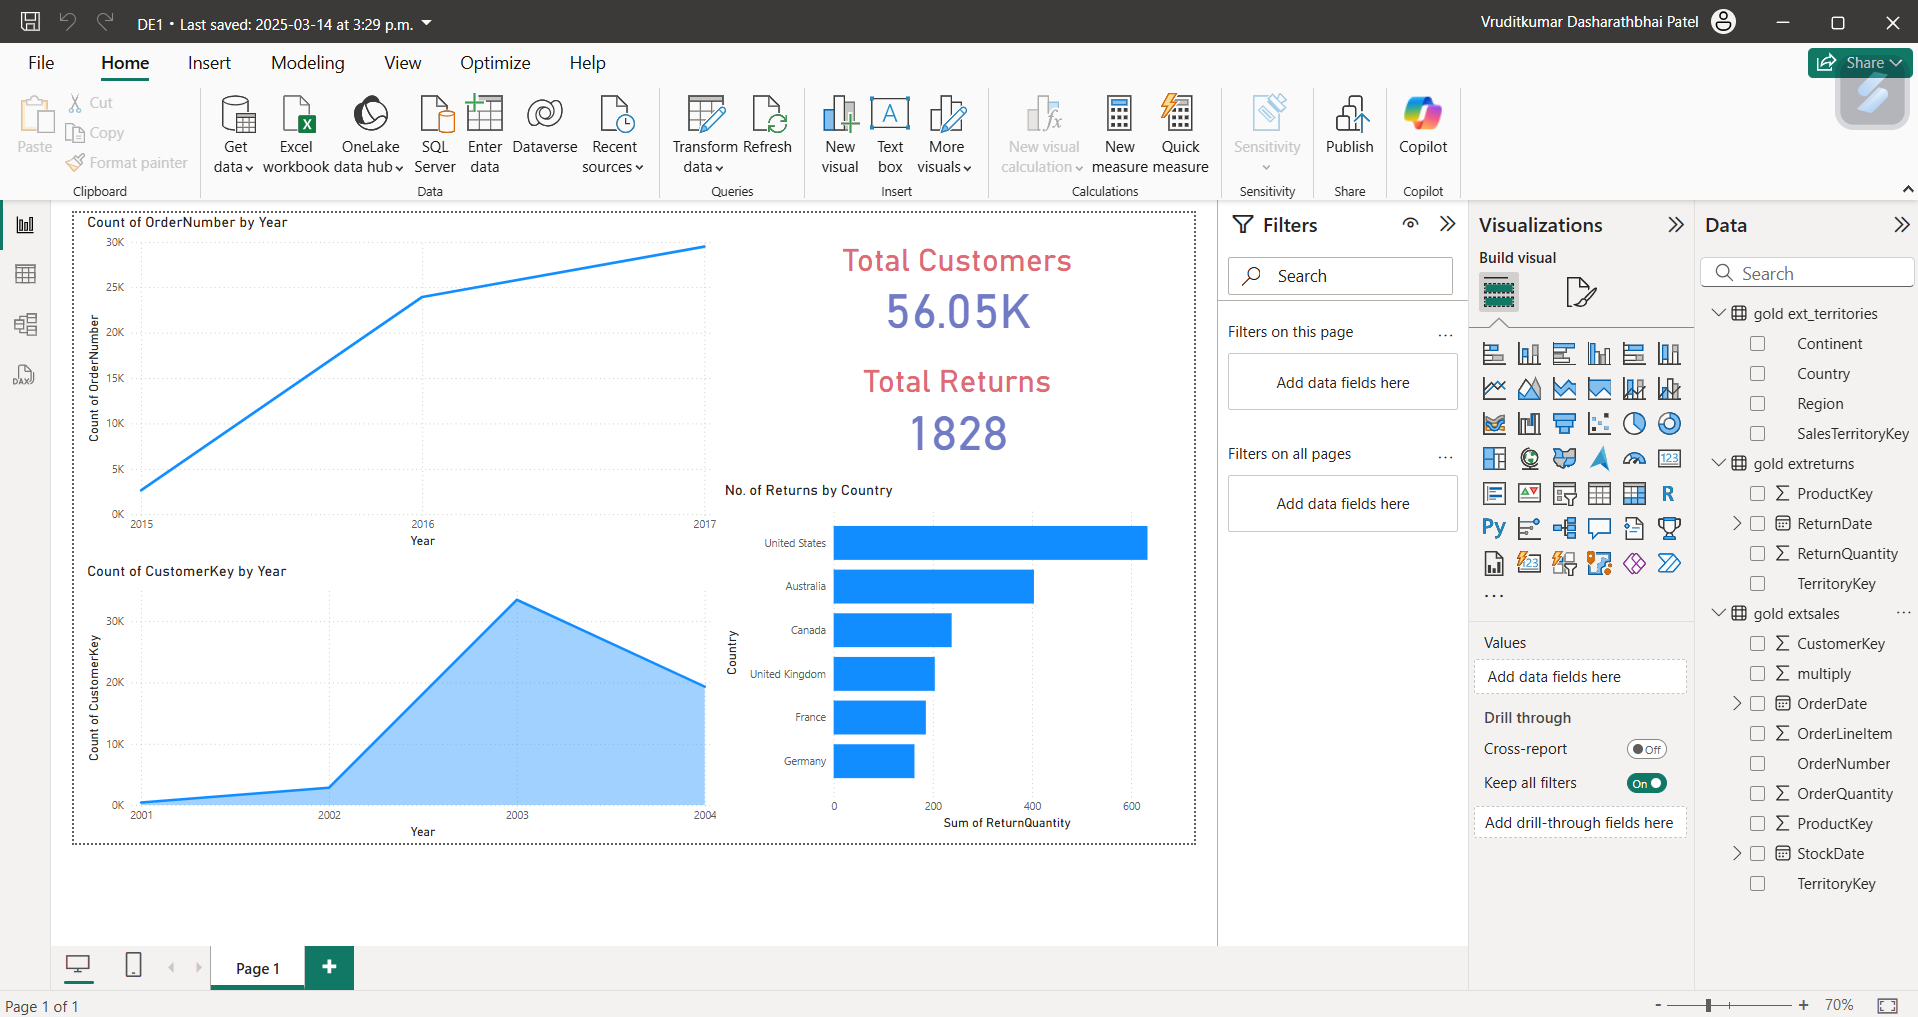

This screenshot's page, from the dashboard's own definition file:
{"tool":"powerbi","page":{"name":"Page 1","canvas":[1280,720],"ordinal":0},"visuals":[{"type":"lineChart","fields":{"Category":["gold extsales.OrderDate.Variation.Date Hierarchy.Year","gold extsales.OrderDate.Variation.Date Hierarchy.Quarter","gold extsales.OrderDate.Variation.Date Hierarchy.Month","gold extsales.OrderDate.Variation.Date Hierarchy.Day"],"Y":["CountNonNull(gold extsales.OrderNumber)"]},"box":[9.6,0,728.6,388.3],"z":0},{"type":"areaChart","fields":{"Y":["CountNonNull(gold extsales.CustomerKey)"],"Category":["gold extsales.StockDate.Variation.Date Hierarchy.Year"]},"box":[10,398,729,322],"z":1000},{"type":"card","title":"Total Customers","fields":{"Values":["CountNonNull(gold extsales.CustomerKey)"]},"box":[738.6,32.9,541.4,105.7],"z":1001},{"type":"card","title":"Total Returns","fields":{"Values":["Sum(gold extreturns.ReturnQuantity)"]},"box":[738.6,171.4,541.4,107.1],"z":1002},{"type":"barChart","title":"No. of Returns by Country","fields":{"Category":["gold ext_territories.Country"],"Y":["Sum(gold extreturns.ReturnQuantity)"]},"box":[738.6,305.7,541.4,404.3],"z":1003}]}

Visuals, with their boxes on the page's 1280x720 design canvas (x1, y1, x2, y2). These are canvas units, not pixel positions in the 1918x1017 screenshot, which may show the page scaled, cropped or inside an application window:
lineChart - gold extsales.OrderDate.Variation.Date Hierarchy.Year x gold extsales.OrderDate.Variation.Date Hierarchy.Quarter: [left=10, top=0, right=738, bottom=388]
areaChart - CountNonNull(gold extsales.CustomerKey) x gold extsales.StockDate.Variation.Date Hierarchy.Year: [left=10, top=398, right=739, bottom=720]
"Total Customers" card: [left=739, top=33, right=1280, bottom=139]
"Total Returns" card: [left=739, top=171, right=1280, bottom=278]
"No. of Returns by Country" barChart: [left=739, top=306, right=1280, bottom=710]
